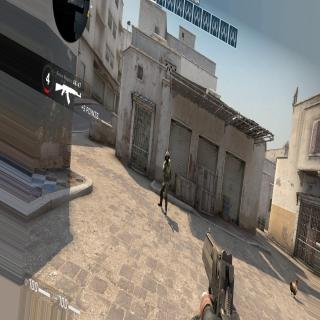CT-Body: (158, 148, 173, 213)
CT-Head: (164, 150, 170, 162)
